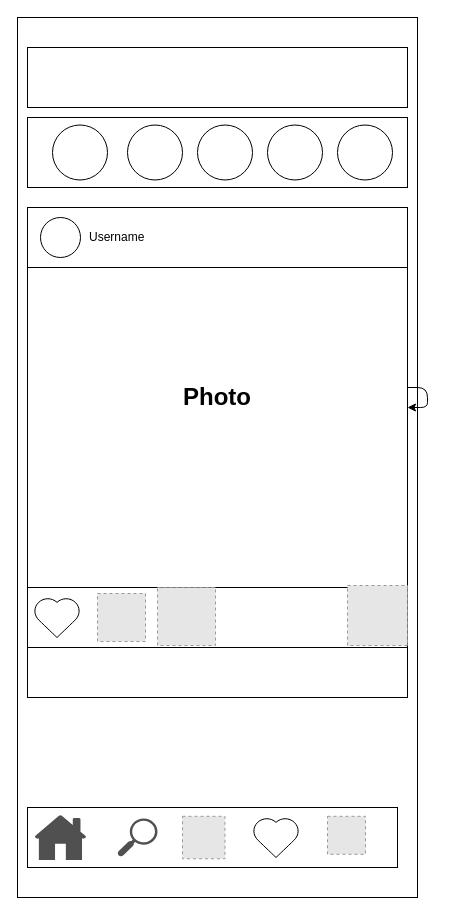
The diagram is 453 pixels wide and 915 high, and some of its shapes have lost their labels. Grey dashed boxes stand in for pictures. The centre of each missing label's shape, as x and y in pixels:
"Insatgram" belongs at point (217, 77).
"Username Caption" belongs at point (217, 672).
